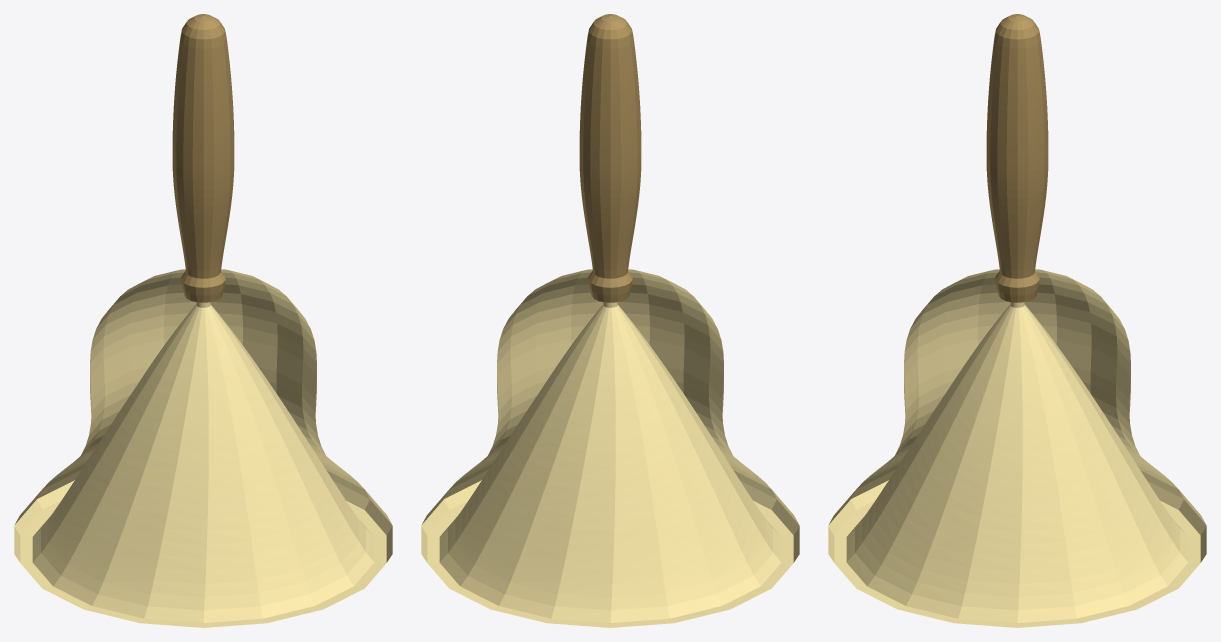
3 renders of one model, left to right at view 1: azimuth 30°, elevation 25°; view 2: azimuth 150°, elevation 25°; view 3: azimuth 270°, elevation 25°, orthographic.
Visible parts, largest first — view 1: Lathe.1, Lathe; view 2: Lathe.1, Lathe; view 3: Lathe.1, Lathe.
Boxes of the visible parts, left/top/right/bottom form: Lathe.1: left=14, top=269, right=392, bottom=627; Lathe: left=172, top=14, right=234, bottom=302; Lathe.1: left=421, top=269, right=799, bottom=627; Lathe: left=579, top=14, right=641, bottom=302; Lathe.1: left=828, top=269, right=1206, bottom=627; Lathe: left=986, top=14, right=1048, bottom=302.
Size of the model in its own units: 153 by 248 by 151.
